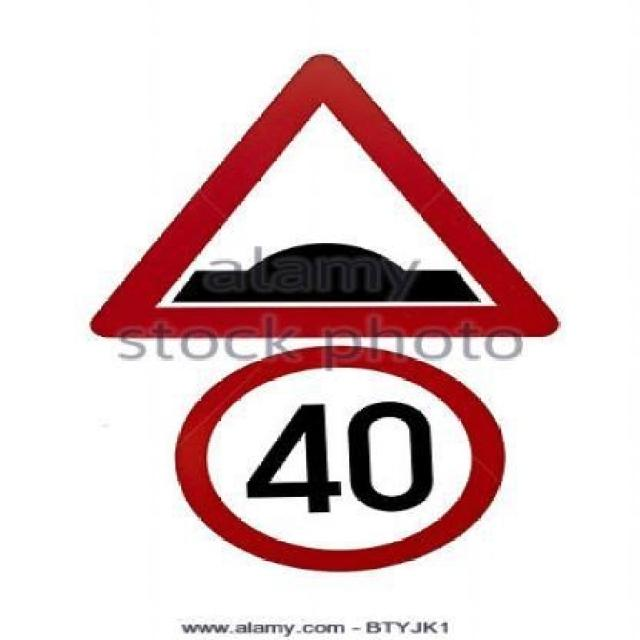forb_speed_over_40: (175, 348, 504, 567)
